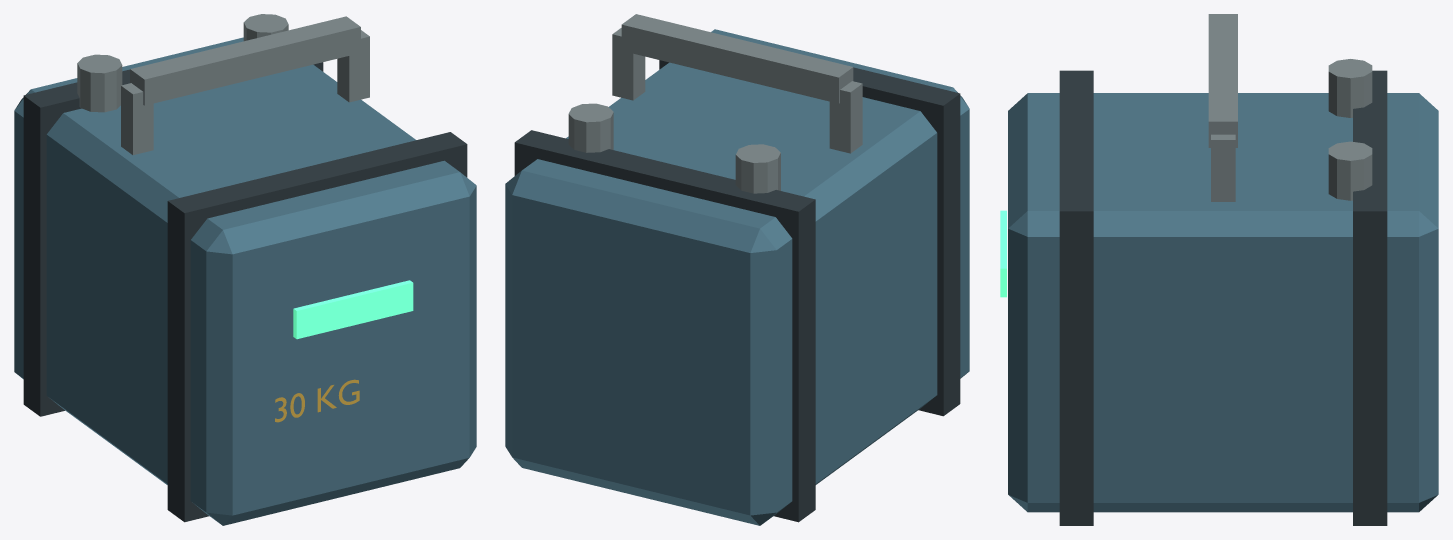
The model's file is DeadRail_Battery_30kg.fbx.
The picture shows the model from 3 angles, left to right: view 1: azimuth 30°, elevation 25°; view 2: azimuth 150°, elevation 25°; view 3: azimuth 270°, elevation 25°; orthographic projection.
Parts seen in each view (by area): view 1: Battery_Case.002, Battery_Retaining_Band.004, Battery_Retaining_Band.005, Battery_Handle.002, Battery_Status.002, Battery_Terminal.004, Battery_Handle_Post.004, Battery_Handle_Post.005, Battery_Terminal.005, Battery_Weight.002; view 2: Battery_Case.002, Battery_Retaining_Band.005, Battery_Retaining_Band.004, Battery_Handle.002, Battery_Terminal.005, Battery_Terminal.004, Battery_Handle_Post.004, Battery_Handle_Post.005; view 3: Battery_Case.002, Battery_Retaining_Band.004, Battery_Retaining_Band.005, Battery_Handle.002, Battery_Terminal.005, Battery_Terminal.004, Battery_Handle_Post.005, Battery_Status.002.
Boxes of the visible parts, bbox=[...] form: Battery_Case.002: bbox=[14, 37, 476, 525]; Battery_Retaining_Band.004: bbox=[167, 132, 467, 522]; Battery_Retaining_Band.005: bbox=[23, 62, 323, 416]; Battery_Handle.002: bbox=[130, 16, 360, 105]; Battery_Status.002: bbox=[293, 280, 413, 339]; Battery_Terminal.004: bbox=[77, 54, 122, 112]; Battery_Handle_Post.004: bbox=[121, 83, 153, 155]; Battery_Handle_Post.005: bbox=[337, 30, 369, 102]; Battery_Terminal.005: bbox=[243, 14, 288, 41]; Battery_Weight.002: bbox=[275, 379, 359, 422]; Battery_Case.002: bbox=[505, 29, 969, 525]; Battery_Retaining_Band.005: bbox=[514, 130, 815, 522]; Battery_Retaining_Band.004: bbox=[659, 60, 960, 416]; Battery_Handle.002: bbox=[621, 14, 853, 103]; Battery_Terminal.005: bbox=[568, 103, 613, 152]; Battery_Terminal.004: bbox=[735, 144, 780, 193]; Battery_Handle_Post.004: bbox=[829, 81, 862, 153]; Battery_Handle_Post.005: bbox=[612, 28, 645, 100]; Battery_Case.002: bbox=[1008, 93, 1438, 512]; Battery_Retaining_Band.004: bbox=[1059, 70, 1093, 525]; Battery_Retaining_Band.005: bbox=[1353, 70, 1387, 525]; Battery_Handle.002: bbox=[1208, 14, 1237, 147]; Battery_Terminal.005: bbox=[1328, 141, 1372, 200]; Battery_Terminal.004: bbox=[1328, 59, 1372, 117]; Battery_Handle_Post.005: bbox=[1211, 134, 1235, 201]; Battery_Status.002: bbox=[1000, 210, 1006, 297].
Size of the model in its own units: 0.68 by 0.875 by 0.9.
